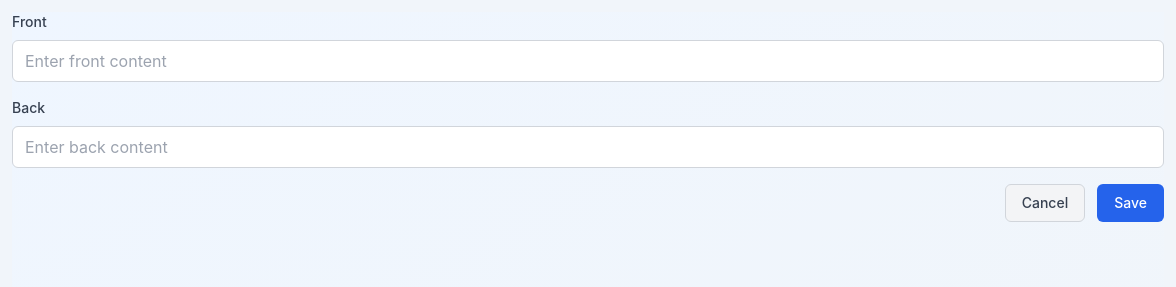
Test: CardForm - Validation › should not submit when validation fails
Click the button "Save". click: [1131, 203]
box: [1097, 184, 1164, 222]
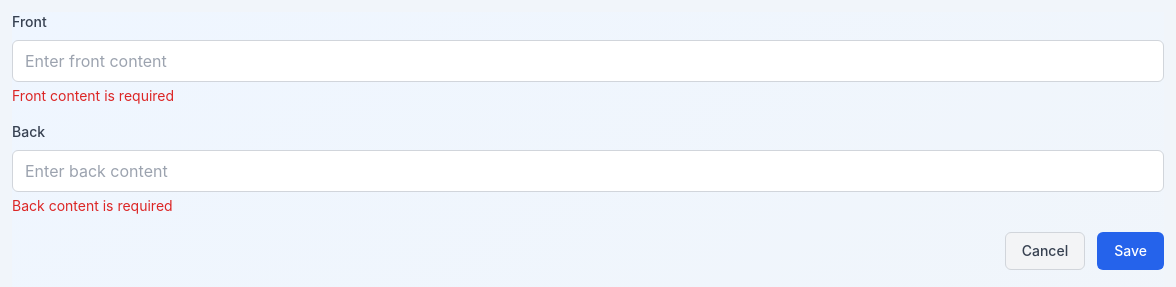
Result: the text "Front content is required" is shown at [12, 87, 174, 104]
Result: the text "Back content is required" is shown at [12, 197, 173, 214]
